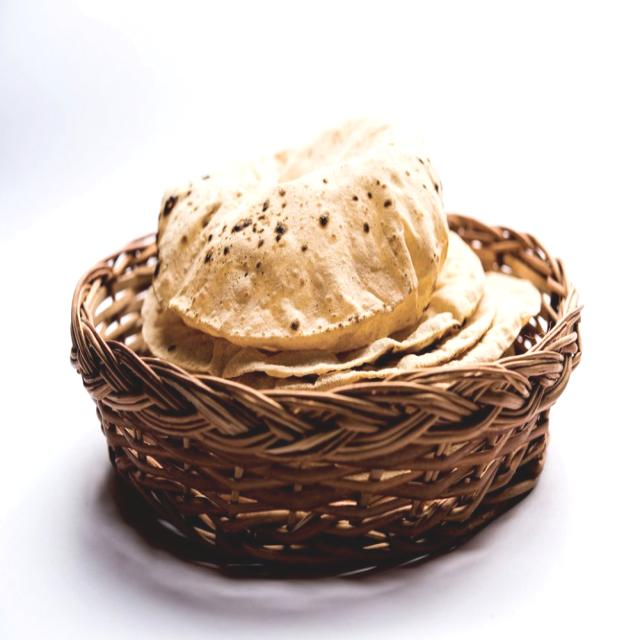chapathi: (152, 112, 452, 344)
